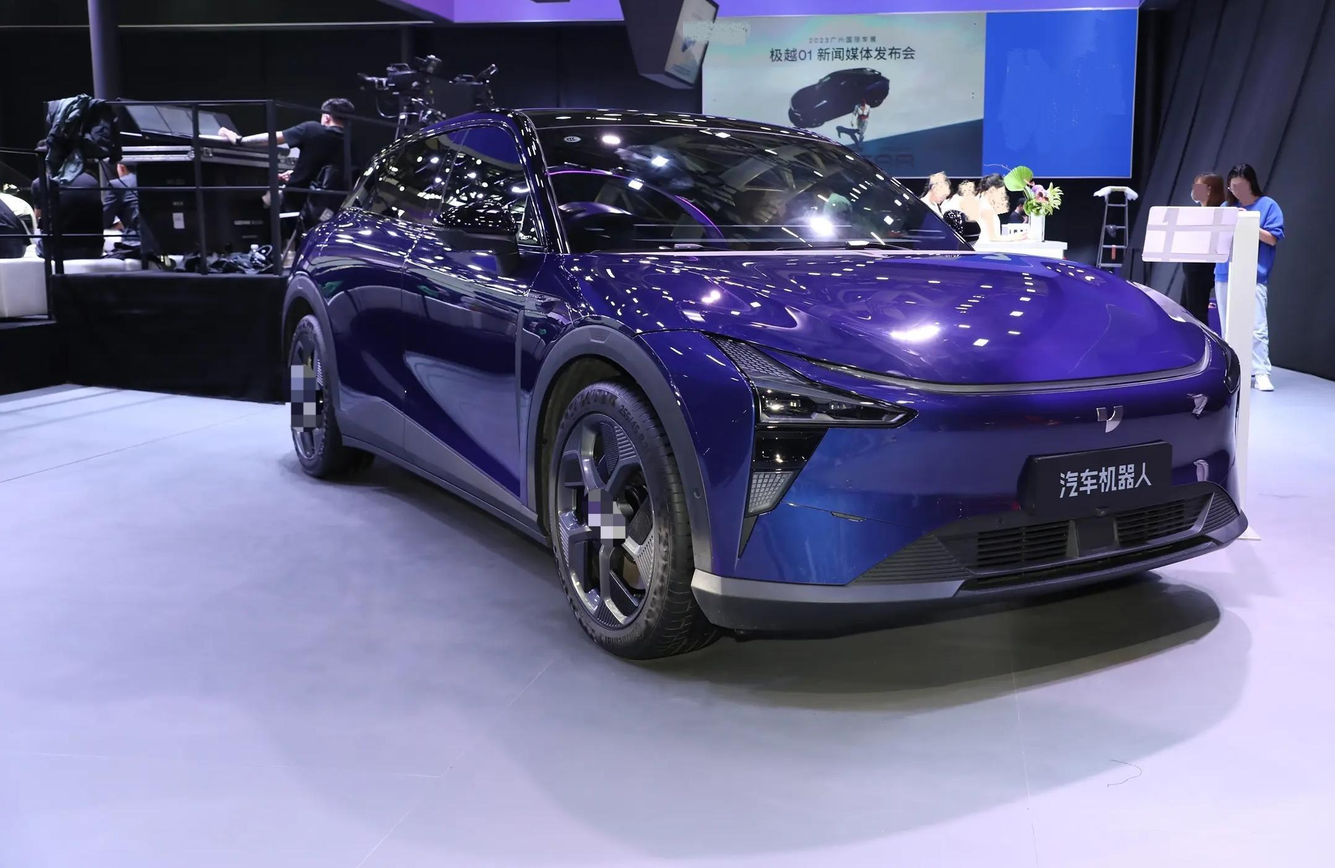JIYUE: (1095, 405, 1125, 434)
